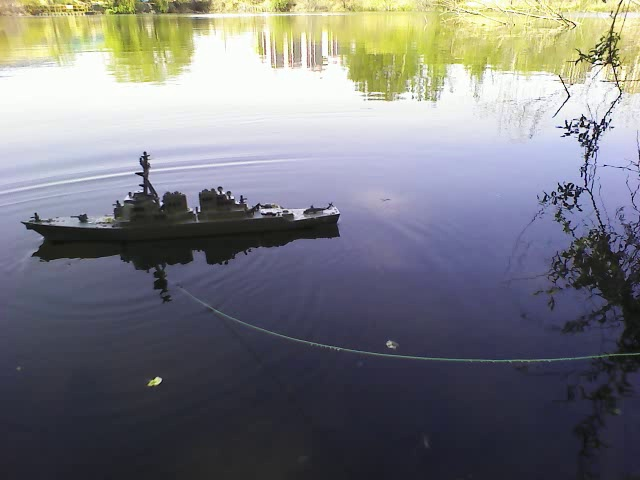warship: (20, 152, 343, 246)
